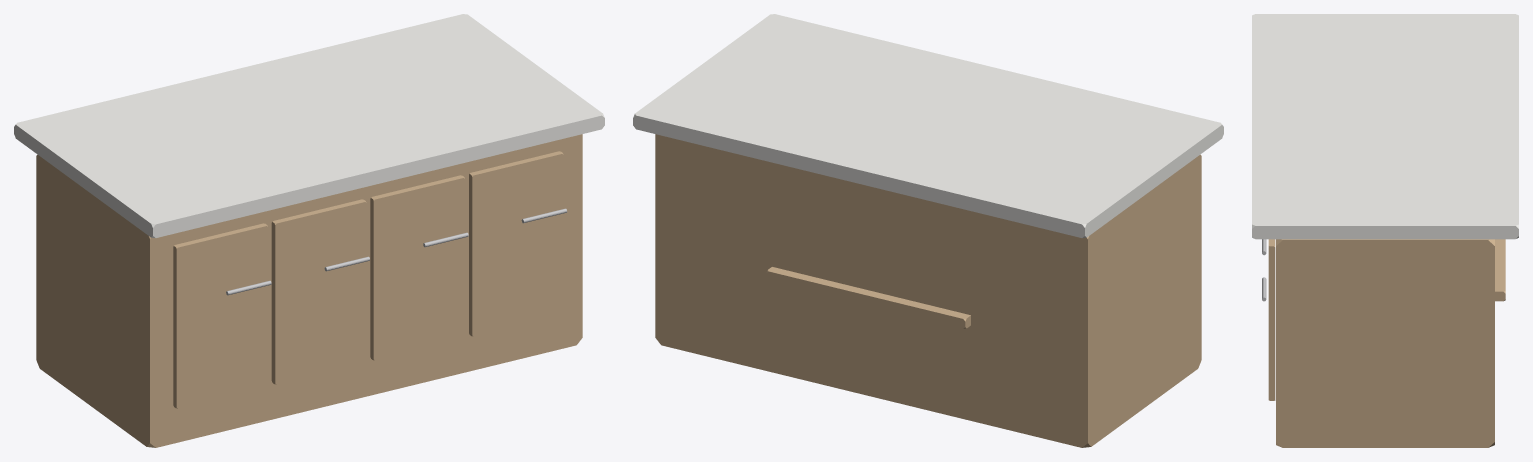
File: kitchen_island.glb
3 renders of one model, left to right at view 1: azimuth 30°, elevation 25°; view 2: azimuth 150°, elevation 25°; view 3: azimuth 270°, elevation 25°, orthographic. The views are drawn at different scales.
Visible parts, largest first — view 1: MARBLE_countertop, CABINET_body, CABINET_door_1, CABINET_door_2, CABINET_door_0, CABINET_door_3; view 2: CABINET_body, MARBLE_countertop, WOOD_DARK_shelf; view 3: MARBLE_countertop, CABINET_body, CABINET_door_3, WOOD_DARK_shelf.
Part boxes in pixels (x1,y1,x2,y2): MARBLE_countertop: [14, 14, 604, 238]; CABINET_body: [36, 134, 582, 447]; CABINET_door_1: [271, 199, 366, 384]; CABINET_door_2: [370, 175, 464, 360]; CABINET_door_0: [173, 223, 267, 408]; CABINET_door_3: [469, 151, 563, 336]; CABINET_body: [655, 134, 1201, 447]; MARBLE_countertop: [633, 14, 1223, 238]; WOOD_DARK_shelf: [766, 267, 970, 328]; MARBLE_countertop: [1252, 14, 1518, 239]; CABINET_body: [1276, 239, 1494, 447]; CABINET_door_3: [1268, 239, 1275, 400]; WOOD_DARK_shelf: [1495, 239, 1505, 301].
Size of the model in its own units: 1.88 by 0.9375 by 1.
